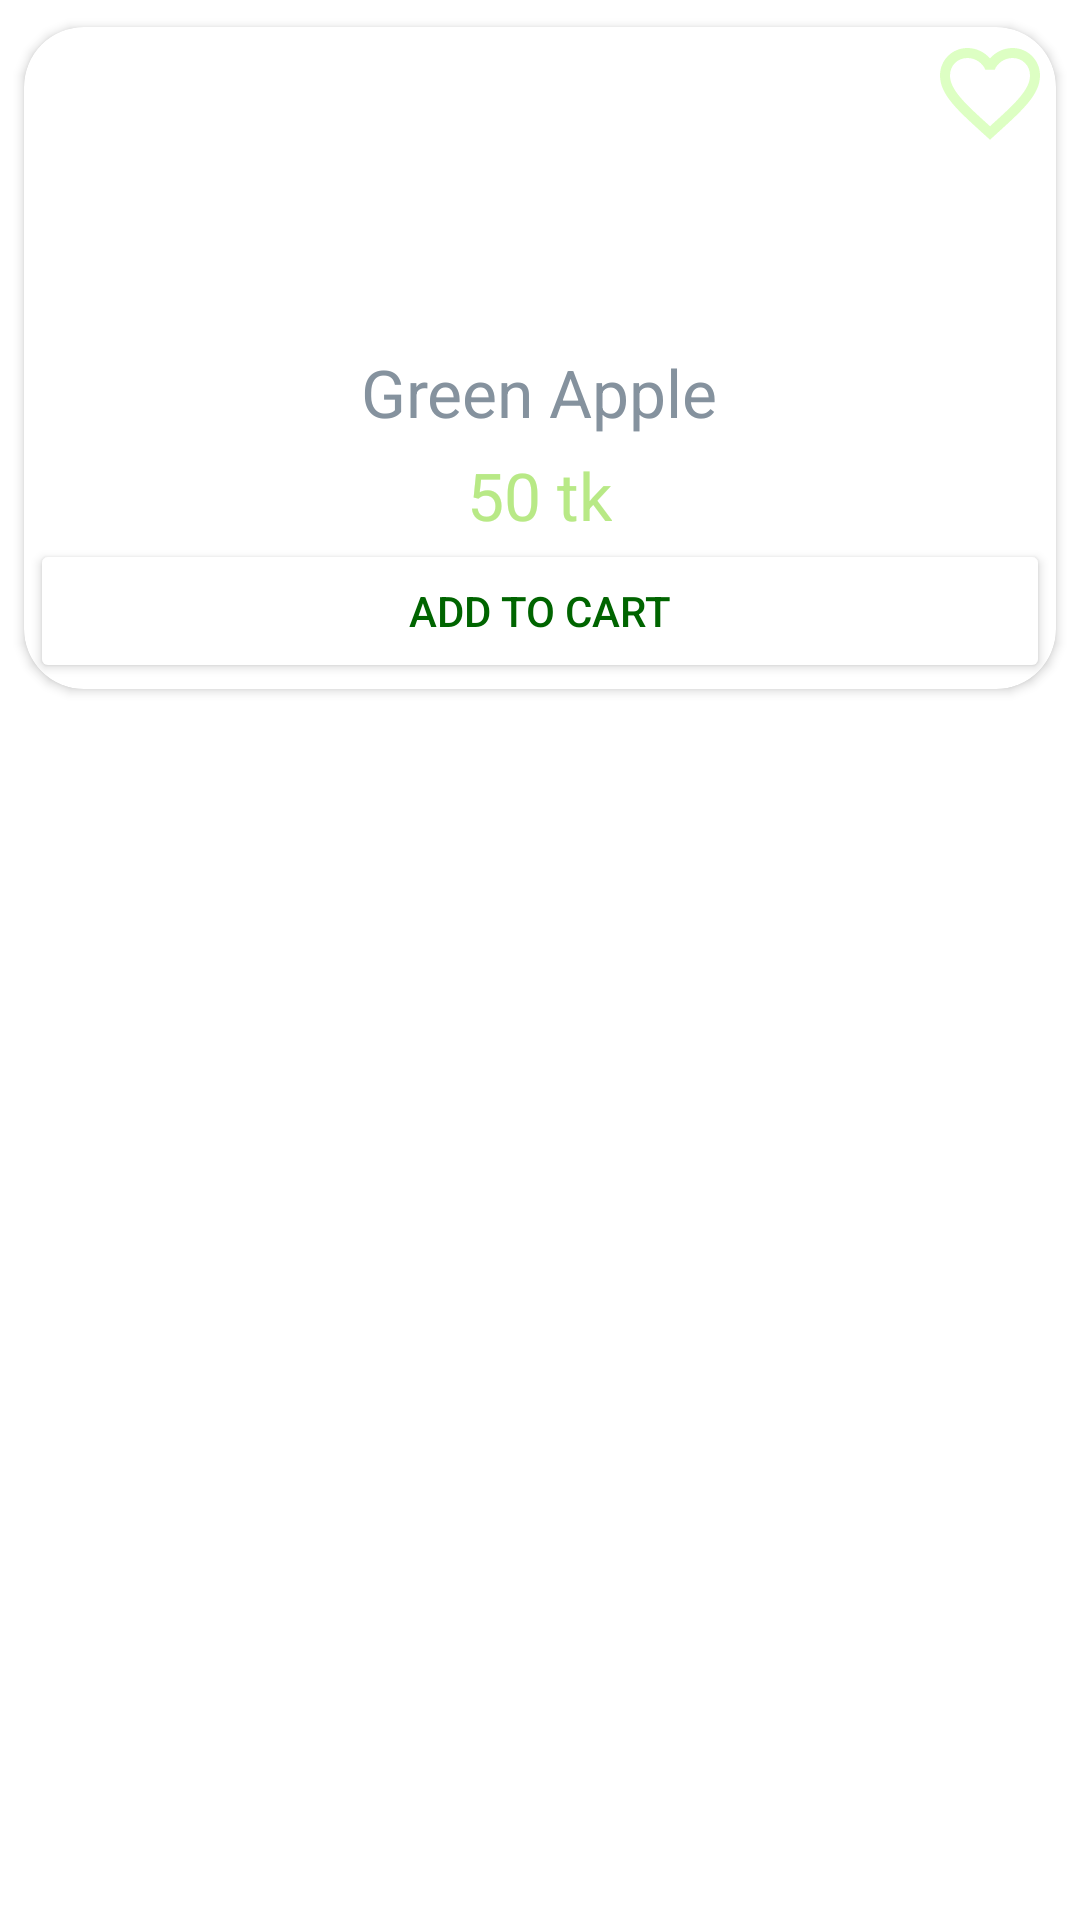

Locate icon controls on the screen. Image size 1080px×1920px, boxes as (x1, y1, x2, y2).
fav: (940, 37, 1050, 139)
